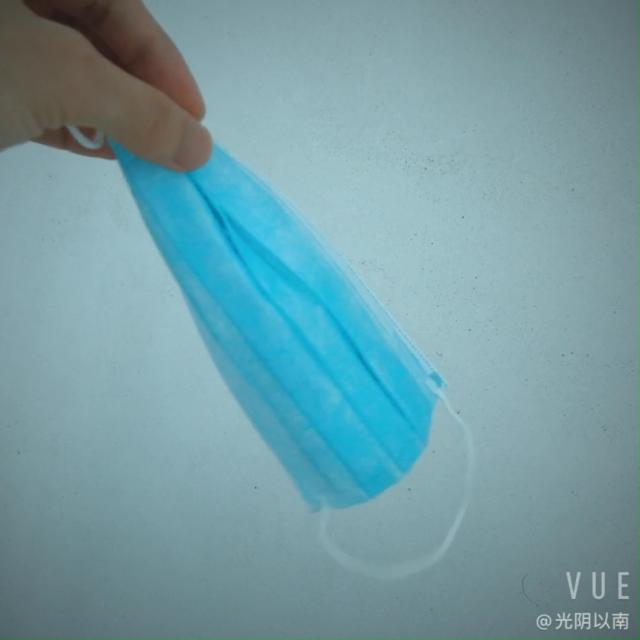non-organic waste: (108, 91, 475, 496)
